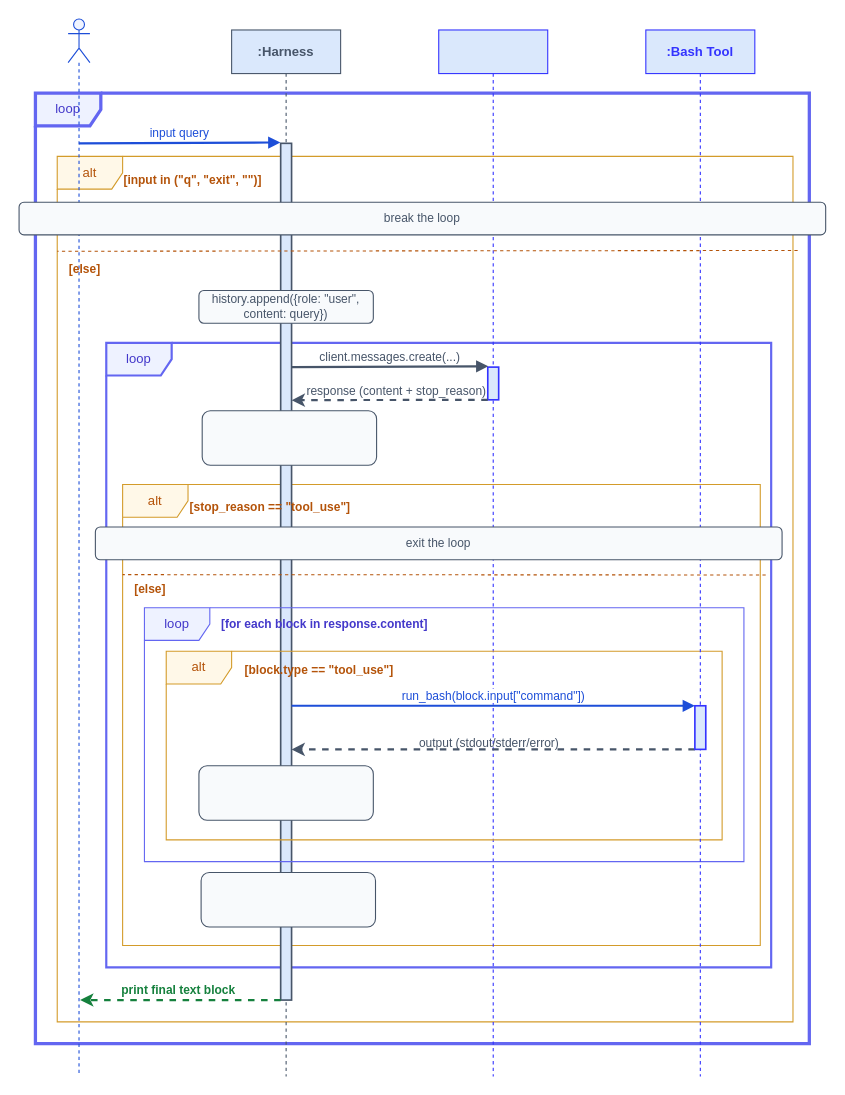
Some shapes in this 845 by 1095 pixel diagram are drawn without their labels. The box of each missing label's shape, as (x1, y1, x2, y2) in pixels:
:Anthropic LLM: (438, 29, 548, 1076)
:User: (67, 18, 90, 1076)
messages.append({ role: "assistant", content: response.content}): (201, 410, 377, 465)
messages.append({ role: "user", content: results}): (200, 871, 376, 927)
results.append({ type: "tool_result", content: output}): (198, 765, 373, 820)
